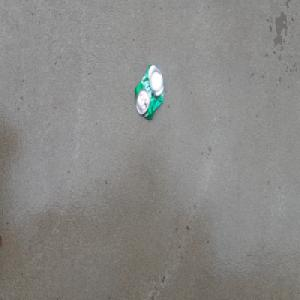SodaCan: (134, 62, 166, 121)
